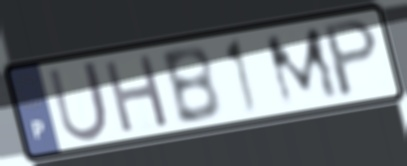1: (223, 32, 260, 118)
B: (157, 43, 225, 129)
H: (101, 50, 173, 137)
M: (261, 23, 344, 111)
P: (321, 16, 381, 102)
U: (45, 57, 113, 145)
